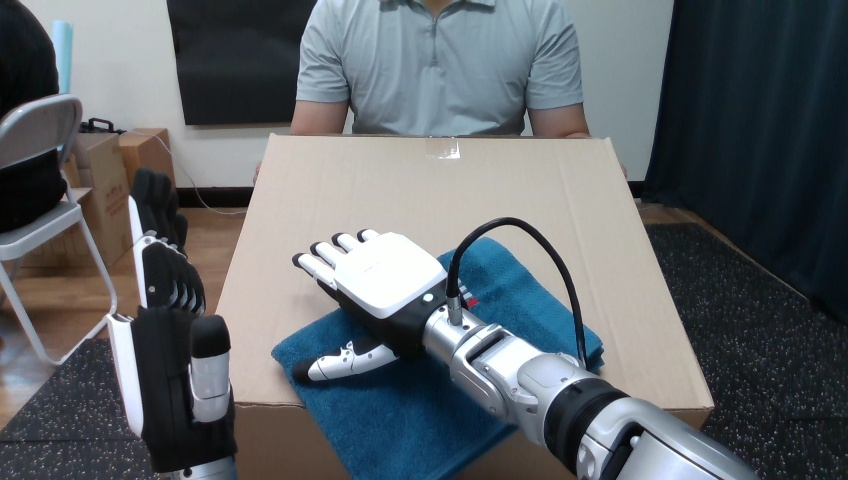left robot arm: (293, 217, 755, 479), (458, 225, 578, 357)
left robot hand: (293, 217, 754, 479), (458, 225, 578, 357)
right robot arm: (293, 217, 754, 479), (458, 225, 578, 357)
right robot hand: (293, 217, 754, 479), (458, 225, 578, 357)
